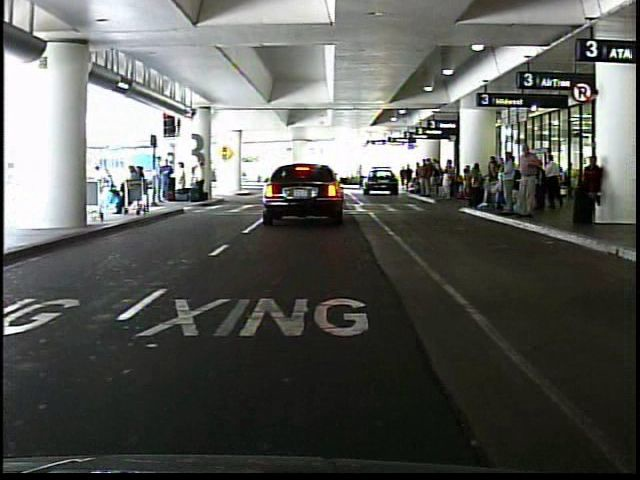person: (514, 137, 542, 225), (571, 150, 602, 229), (541, 152, 565, 212), (498, 150, 517, 217), (97, 156, 117, 213), (162, 155, 176, 203), (192, 158, 207, 201), (177, 161, 190, 202)
